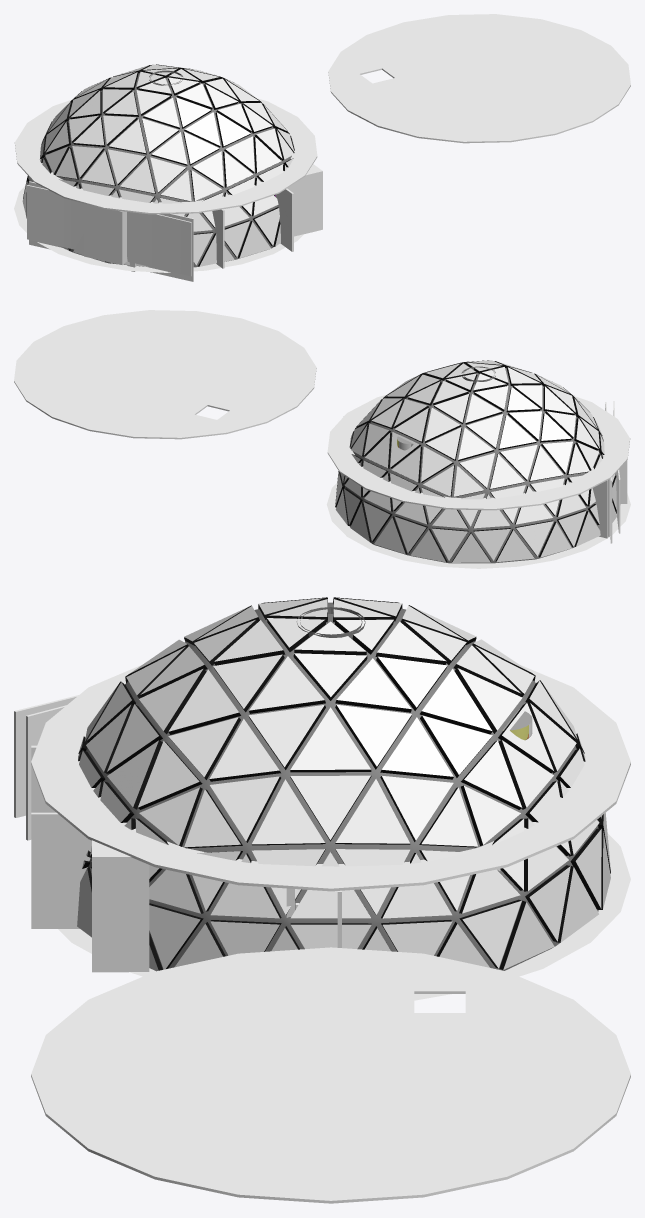
The model's file is dome huist bijna done.fbx.
The picture shows the model from 3 angles, top to bottom: view 1: azimuth 30°, elevation 25°; view 2: azimuth 150°, elevation 25°; view 3: azimuth 270°, elevation 25°; orthographic projection. The views are drawn at different scales.
Visible parts, largest first — view 1: dome, boven_verdieping_plaat_met_gat1, pCube69, boven_verdieping_plaat_zonder_gat, pCube17, pDisc1, muur_3, pCube56, muur_ingang; view 2: dome, boven_verdieping_plaat_met_gat1, boven_verdieping_plaat_zonder_gat, pDisc1, muur_4, pCube69; view 3: dome, boven_verdieping_plaat_met_gat1, boven_verdieping_plaat_zonder_gat, pCube17, muur_3, pDisc1, pCube69, pCube56.
Boxes of the visible parts, x1=… form: dome: x1=22, y1=64, x2=294, y2=267; boven_verdieping_plaat_met_gat1: x1=328, y1=14, x2=630, y2=143; pCube69: x1=27, y1=185, x2=191, y2=276; boven_verdieping_plaat_zonder_gat: x1=14, y1=98, x2=317, y2=214; pCube17: x1=275, y1=164, x2=322, y2=236; pDisc1: x1=14, y1=186, x2=303, y2=272; muur_3: x1=276, y1=188, x2=293, y2=251; pCube56: x1=29, y1=181, x2=193, y2=281; muur_ingang: x1=212, y1=209, x2=224, y2=268; dome: x1=335, y1=360, x2=620, y2=563; boven_verdieping_plaat_met_gat1: x1=14, y1=310, x2=316, y2=439; boven_verdieping_plaat_zonder_gat: x1=327, y1=394, x2=630, y2=510; pDisc1: x1=326, y1=483, x2=630, y2=568; muur_4: x1=343, y1=415, x2=610, y2=538; pCube69: x1=613, y1=401, x2=627, y2=533; dome: x1=77, y1=597, x2=610, y2=971; boven_verdieping_plaat_met_gat1: x1=31, y1=947, x2=630, y2=1203; boven_verdieping_plaat_zonder_gat: x1=31, y1=664, x2=630, y2=891; pCube17: x1=92, y1=840, x2=149, y2=972; muur_3: x1=31, y1=812, x2=91, y2=928; pDisc1: x1=58, y1=833, x2=630, y2=1000; pCube69: x1=14, y1=695, x2=78, y2=817; pCube56: x1=26, y1=705, x2=66, y2=840.
Size of the model in its own units: 31.12 by 6.93 by 14.4.
35 materials, 35 textured.
